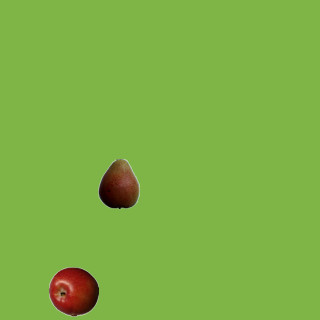Apple Braeburn: (48, 266, 98, 316)
Pear Forelle: (93, 158, 143, 208)
